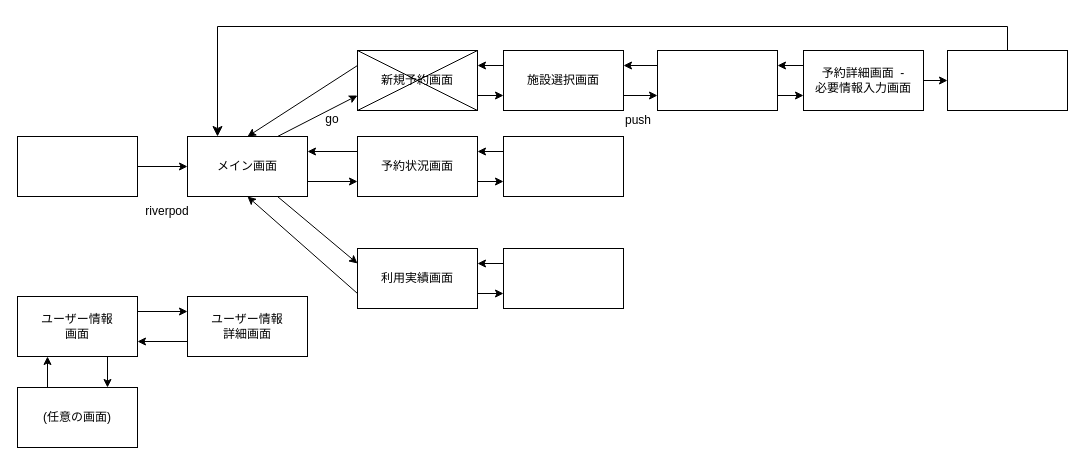
Some shapes in this 1085 by 465 pixel diagram are drawn without their labels. The centre of each missing label's shape, as x and y in pixels:
ログイン画面: the point at 77,166
予約詳細画面: the point at 563,166
予約詳細画面 - 日付選択画面: the point at 717,80
利用実績詳細画面: the point at 563,278
案内表示画面: the point at 1007,80
